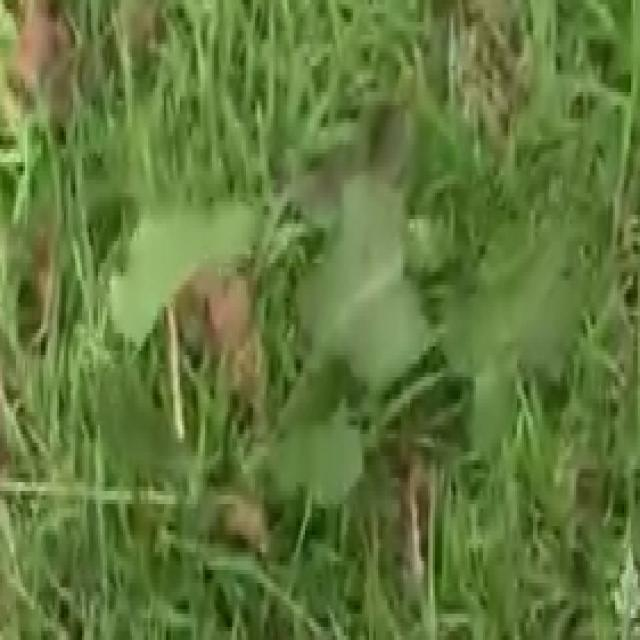organic waste: (91, 118, 585, 552)
